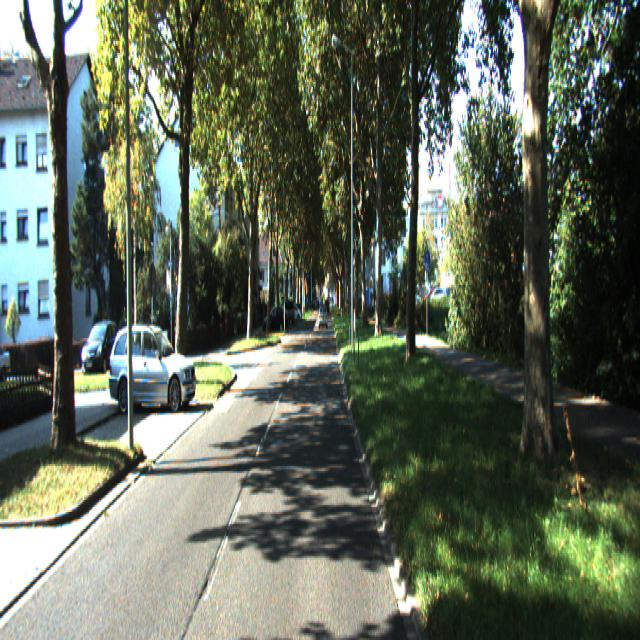Car: (106, 325, 200, 414)
